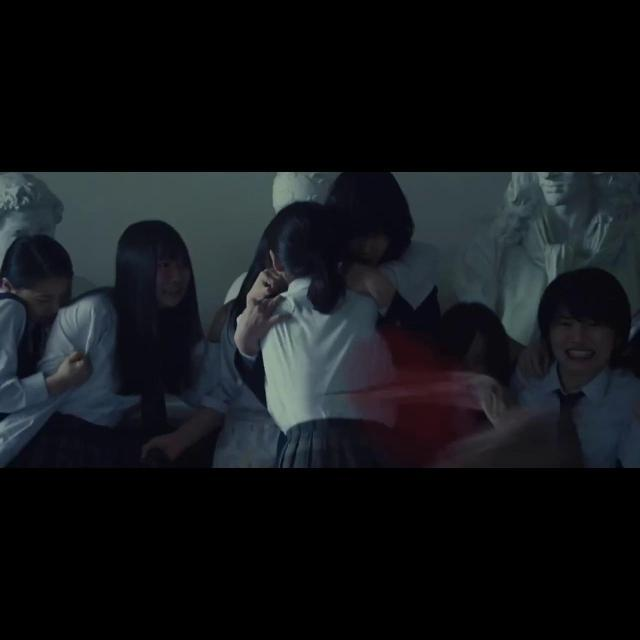blood: (346, 334, 492, 465)
